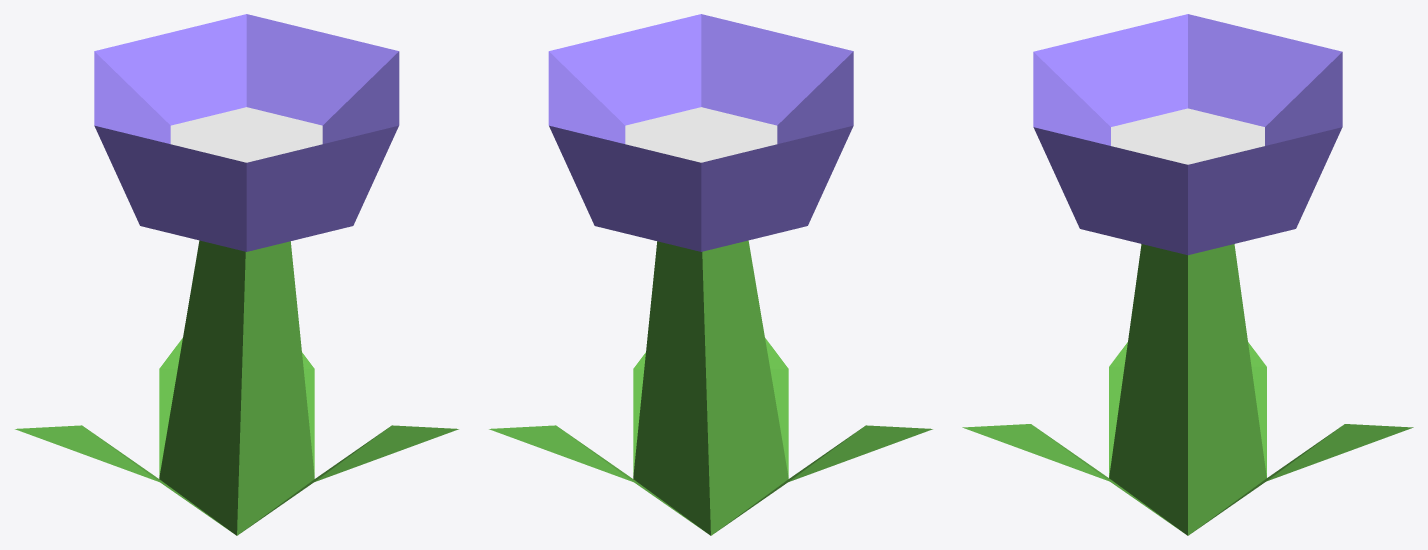
Rendered from flower_purpleC.glb.
3 views of the same model, side by side, from view 1: azimuth 30°, elevation 25°; view 2: azimuth 150°, elevation 25°; view 3: azimuth 270°, elevation 25° (orthographic).
Parts seen in each view (by area): view 1: flower_purpleC; view 2: flower_purpleC; view 3: flower_purpleC.
Part boxes in pixels (<box>): flower_purpleC: <box>15,14,458,535</box>; flower_purpleC: <box>489,14,932,535</box>; flower_purpleC: <box>962,14,1413,535</box>.
Size of the model in its own units: 0.1806 by 0.1825 by 0.1811.
